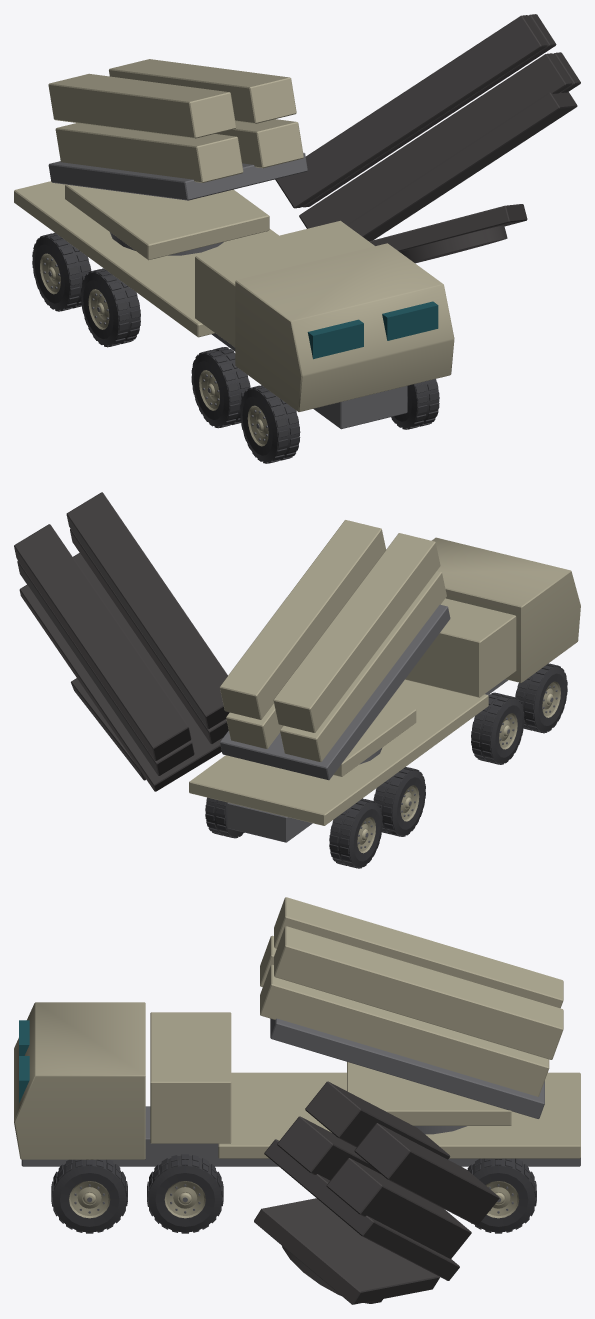
File: coastalASM__type_12_ssm.glb
3 views of the same model, one above another, from view 1: azimuth 30°, elevation 25°; view 2: azimuth 150°, elevation 25°; view 3: azimuth 270°, elevation 25° (orthographic). The views are drawn at different scales.
Parts seen in each view (by area): view 1: Hull_Mesh, Wreck, Gun_Mesh, Turret_Mesh, Wheel_L1_Mesh, Wheel_L3_Mesh, Wheel_L2_Mesh, Wheel_L0_Mesh, Wheel_R3_Mesh; view 2: Gun_Mesh, Wreck, Hull_Mesh, Wheel_L2_Mesh, Wheel_L0_Mesh, Wheel_L1_Mesh, Wheel_L3_Mesh, Turret_Mesh, Wheel_R0_Mesh; view 3: Hull_Mesh, Gun_Mesh, Wreck, Turret_Mesh, Wheel_R2_Mesh, Wheel_R3_Mesh, Wheel_R0_Mesh.
Boxes of the visible parts, x1,y1,x2,y2 form: Hull_Mesh: (14, 181, 454, 429); Wreck: (47, 14, 580, 461); Gun_Mesh: (48, 59, 307, 200); Turret_Mesh: (65, 184, 269, 260); Wheel_L1_Mesh: (81, 268, 140, 346); Wheel_L3_Mesh: (240, 385, 300, 463); Wheel_L2_Mesh: (191, 347, 250, 428); Wheel_L0_Mesh: (32, 232, 91, 311); Wheel_R3_Mesh: (391, 379, 439, 429); Gun_Mesh: (219, 520, 450, 780); Wreck: (14, 492, 558, 835); Hull_Mesh: (189, 537, 580, 842); Wheel_L2_Mesh: (471, 692, 524, 764); Wheel_L0_Mesh: (329, 798, 382, 868); Wheel_L1_Mesh: (373, 767, 425, 836); Wheel_L3_Mesh: (515, 663, 567, 733); Turret_Mesh: (333, 702, 416, 776); Wheel_R0_Mesh: (205, 797, 244, 838); Hull_Mesh: (14, 1002, 580, 1166); Gun_Mesh: (260, 897, 563, 1118); Wreck: (254, 1081, 499, 1304); Turret_Mesh: (347, 1062, 511, 1134); Wheel_R2_Mesh: (147, 1154, 223, 1233); Wheel_R3_Mesh: (51, 1159, 127, 1233); Wheel_R0_Mesh: (467, 1158, 536, 1233).
Size of what is drawn, in the model's own units: 7.93 by 4.58 by 8.6.
